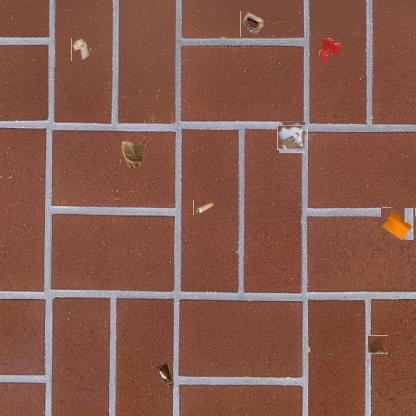dirty: (382, 206, 416, 240), (278, 123, 307, 152), (119, 139, 146, 168), (240, 12, 266, 37), (154, 364, 174, 390), (70, 39, 91, 60), (193, 200, 214, 216)
liquid: (320, 39, 342, 61), (369, 335, 388, 355)
